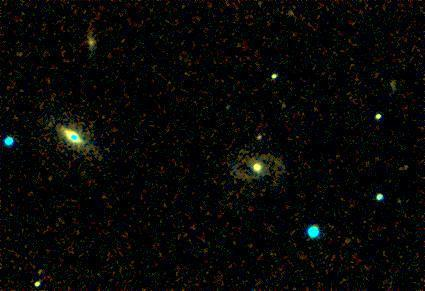star: (244, 124, 274, 154)
